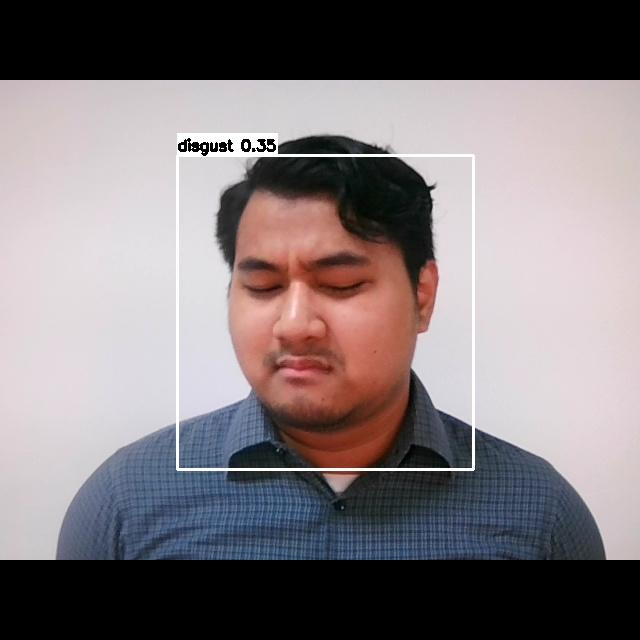Disgust: (222, 224, 413, 413)
